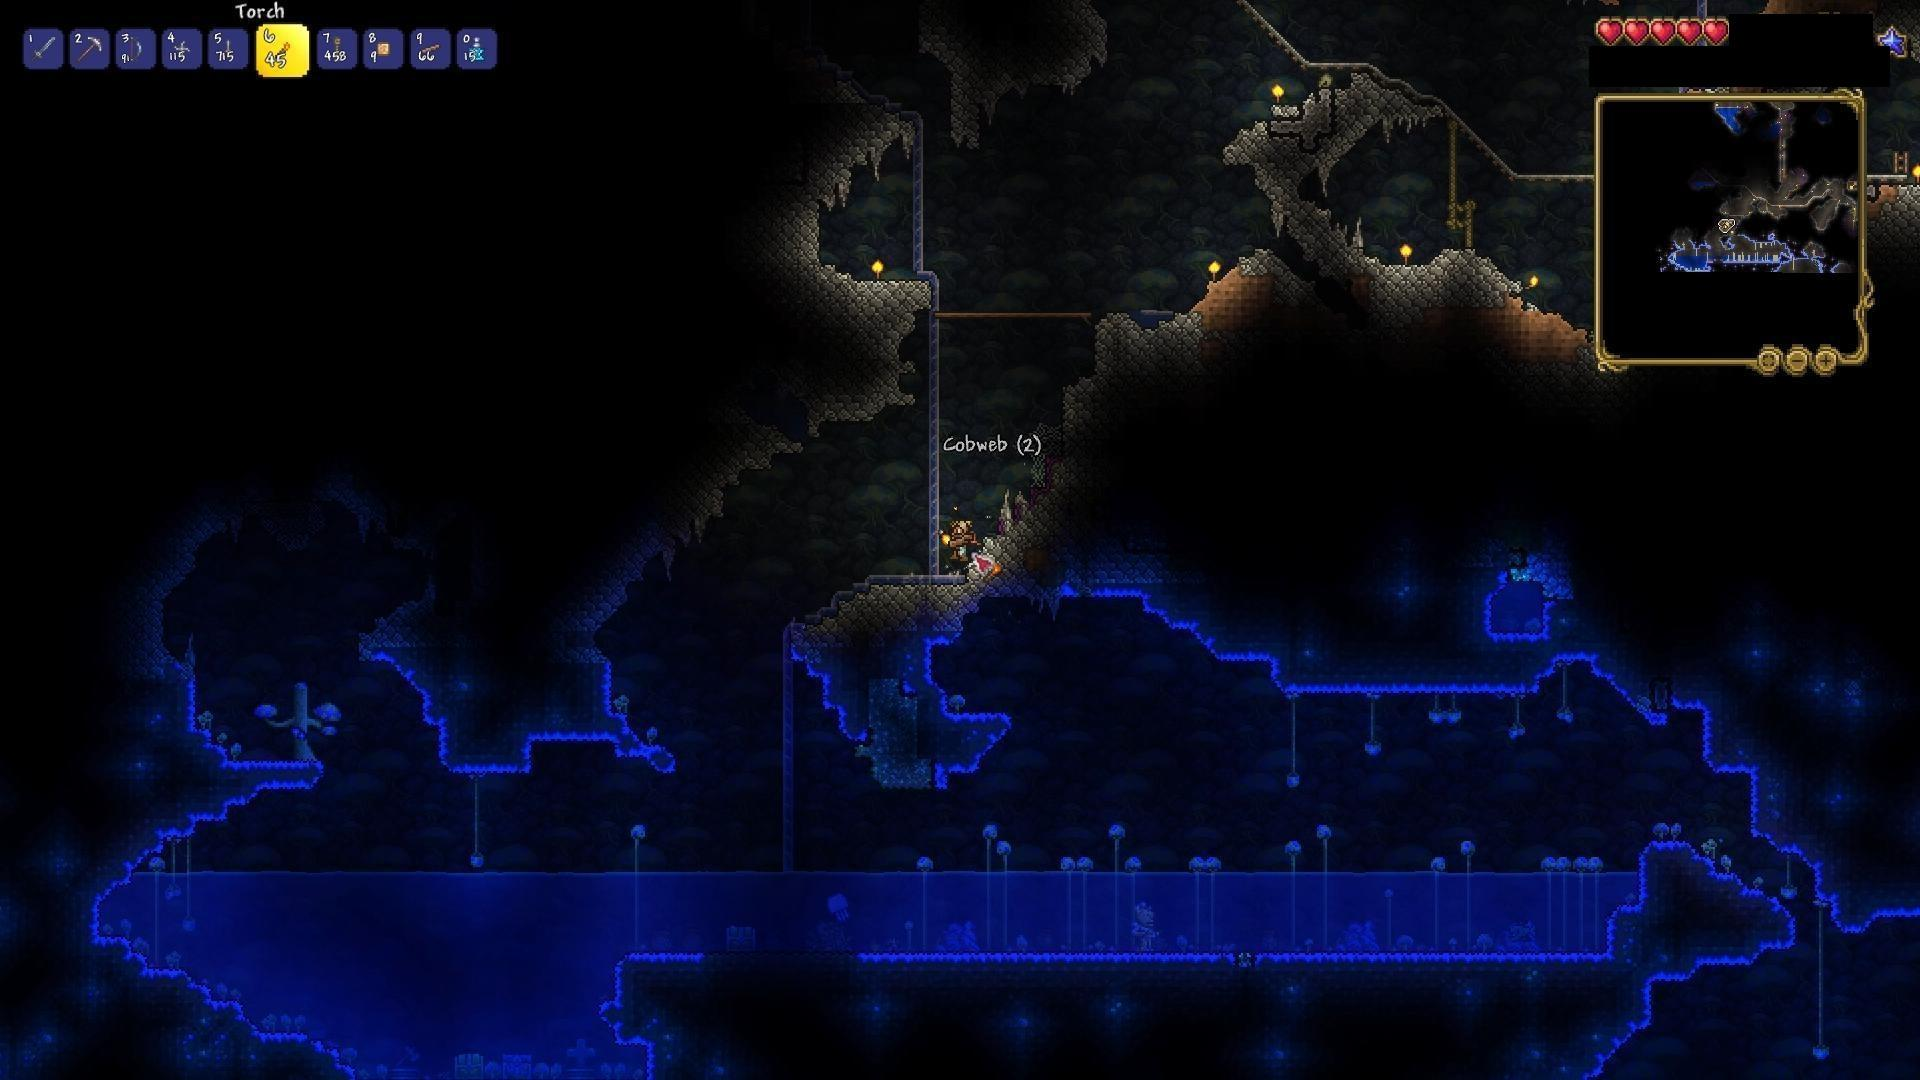heart: (1702, 17, 1733, 51), (1593, 16, 1626, 46), (1676, 15, 1704, 50), (1650, 16, 1676, 49), (1625, 15, 1651, 44)
liquid: (121, 851, 911, 902), (927, 862, 1647, 895)
stone: (737, 280, 927, 419), (927, 13, 1121, 145), (749, 105, 914, 260), (790, 574, 975, 691), (1055, 286, 1187, 439), (1229, 102, 1374, 236), (1270, 252, 1516, 330), (985, 500, 1117, 628)
